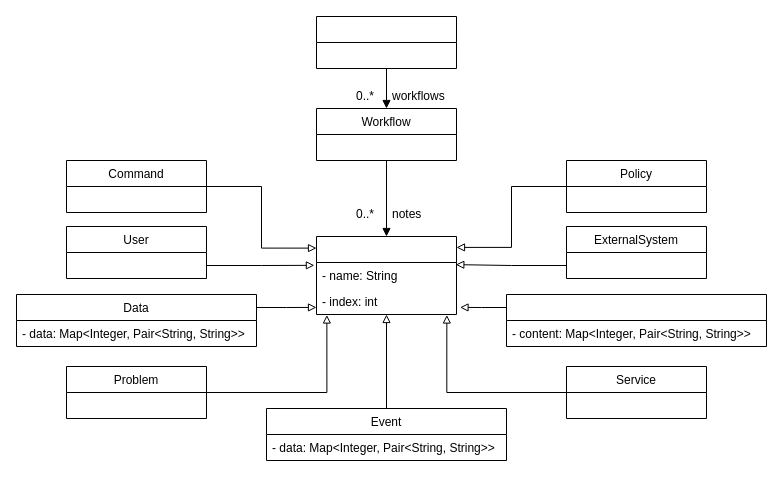
The diagram is 783 pixels wide and 477 high, and some of its shapes have lost their labels. The shapes that lost their labels are listed below. From the top down, each one's box as (x1, y1, x2, y2) in pixels, then its label:
(316, 16, 456, 68): Board
(316, 236, 456, 314): BaseNote
(506, 294, 766, 346): Page
